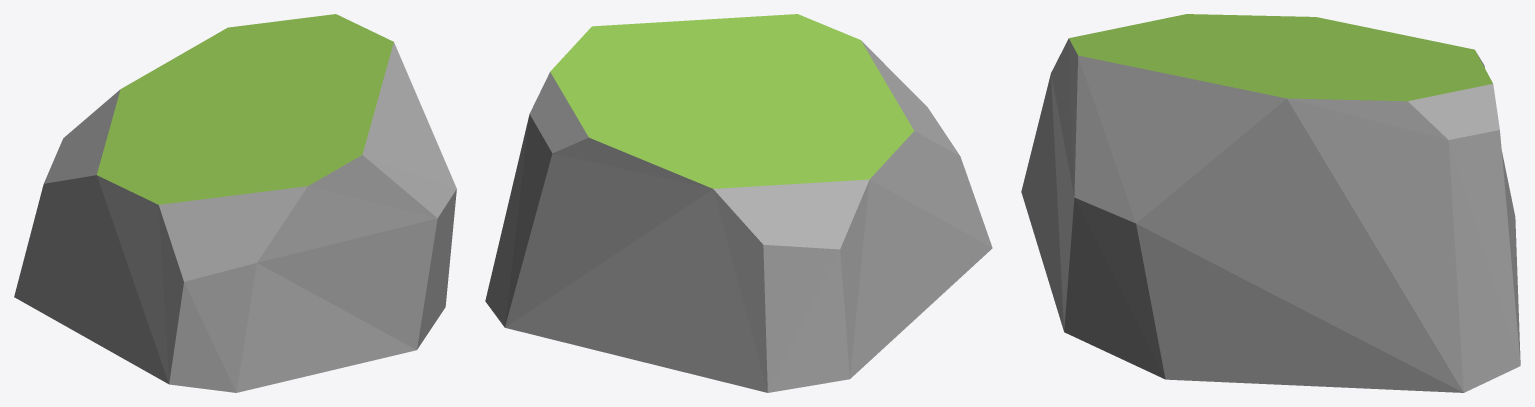
File: Rock1.fbx
The picture shows the model from 3 angles, left to right: view 1: azimuth 30°, elevation 25°; view 2: azimuth 150°, elevation 25°; view 3: azimuth 270°, elevation 25°; orthographic projection. The views are drawn at different scales.
Visible parts, largest first — view 1: Rock1; view 2: Rock1; view 3: Rock1.
Part boxes in pixels (left/top/right/bottom): Rock1: left=14, top=14, right=456, bottom=392; Rock1: left=485, top=14, right=992, bottom=392; Rock1: left=1021, top=14, right=1520, bottom=392.
Size of the model in its own units: 0.7924 by 0.4971 by 0.8037.
